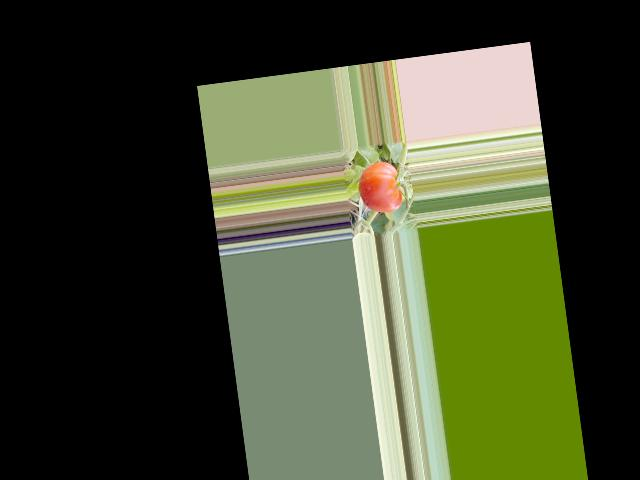tomato: (355, 160, 403, 216)
